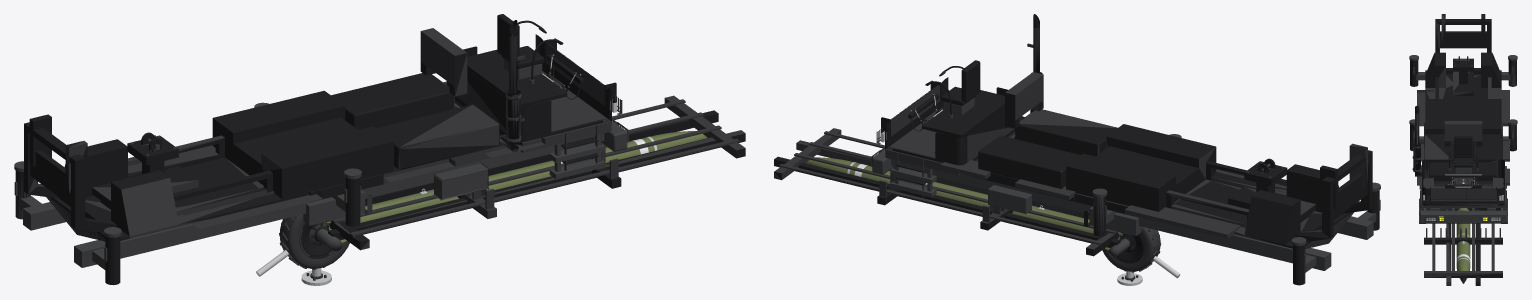
File: camionMisiles.glb
The picture shows the model from 3 angles, left to right: view 1: azimuth 30°, elevation 25°; view 2: azimuth 150°, elevation 25°; view 3: azimuth 270°, elevation 25°; orthographic projection. The views are drawn at different scales.
Parts seen in each view (by area): view 1: chasis, rampaLanzador, misilExteriorDerecho, ruedaDelanteraDerecha, ruedaDelanteraIzquierda; view 2: chasis, rampaLanzador, misilExteriorDerecho, ruedaDelanteraDerecha; view 3: chasis, rampaLanzador, misilExteriorDerecho.
Part boxes in pixels (box(x1,y1,x2,y2)): chasis: box(14, 14, 628, 285); rampaLanzador: box(316, 95, 745, 251); misilExteriorDerecho: box(325, 131, 707, 242); ruedaDelanteraDerecha: box(279, 214, 349, 269); ruedaDelanteraIzquierda: box(301, 221, 332, 256); chasis: box(871, 14, 1380, 285); rampaLanzador: box(774, 128, 1129, 257); misilExteriorDerecho: box(805, 157, 1122, 253); ruedaDelanteraDerecha: box(1102, 226, 1161, 272); chasis: box(1409, 14, 1517, 223); rampaLanzador: box(1424, 208, 1502, 285); misilExteriorDerecho: box(1456, 208, 1470, 283).
Size of the model in its own units: 14.02 by 4.96 by 3.52.
